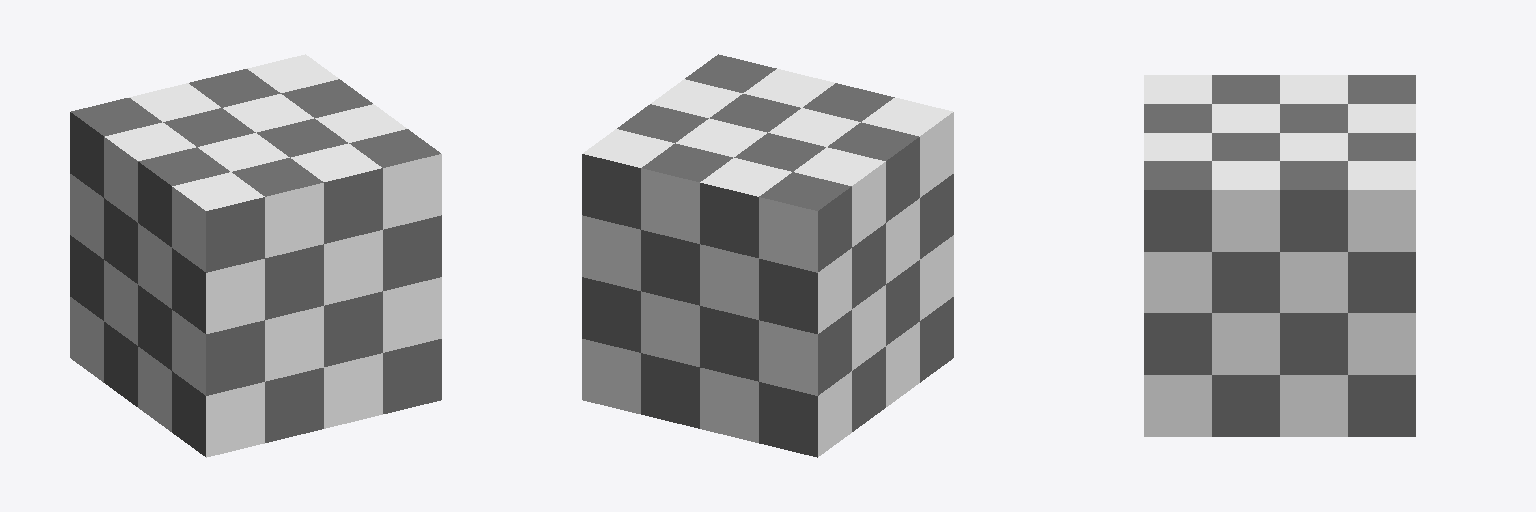
The picture shows the model from 3 angles: view 1: azimuth 30°, elevation 25°; view 2: azimuth 150°, elevation 25°; view 3: azimuth 270°, elevation 25°; orthographic projection.
Visible parts, largest first — view 1: cube; view 2: cube; view 3: cube.
Part boxes in pixels (left/top/right/bottom): cube: left=70, top=54, right=441, bottom=457; cube: left=582, top=54, right=953, bottom=457; cube: left=1144, top=75, right=1415, bottom=436.
Bounding box in the file's own units: 2 × 2 × 2.
Materials: 1 (1 with a texture image).